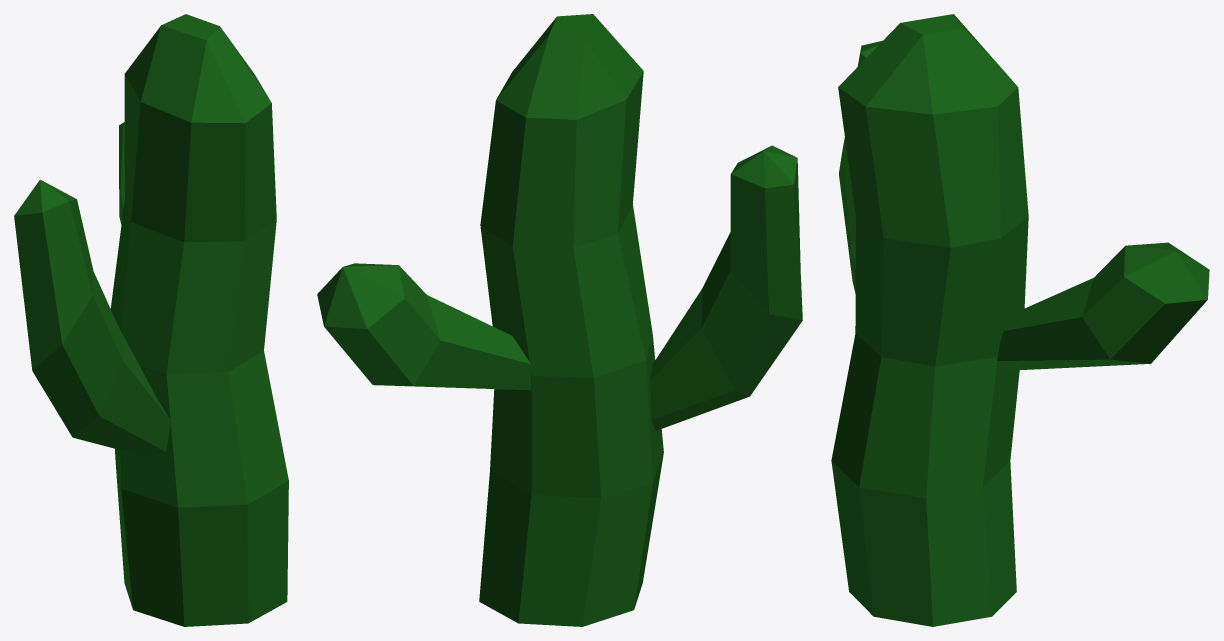
The model's file is cactus-4.glb.
3 views of the same model, side by side, from view 1: azimuth 30°, elevation 25°; view 2: azimuth 150°, elevation 25°; view 3: azimuth 270°, elevation 25° (orthographic).
Visible parts, largest first — view 1: Cylinder.005, Cylinder.009, Cylinder.007; view 2: Cylinder.005, Cylinder.009, Cylinder.007; view 3: Cylinder.005, Cylinder.007, Cylinder.009.
Part boxes in pixels (x1,y1,x2,y2): Cylinder.005: (110, 14, 288, 626); Cylinder.009: (14, 179, 171, 456); Cylinder.007: (119, 122, 124, 224); Cylinder.005: (479, 14, 663, 626); Cylinder.009: (650, 145, 802, 430); Cylinder.007: (317, 263, 531, 390); Cylinder.005: (831, 14, 1028, 626); Cylinder.007: (997, 242, 1209, 370); Cylinder.009: (839, 40, 882, 293).
Bounding box in the file's own units: 1.86 × 3 × 1.83.
